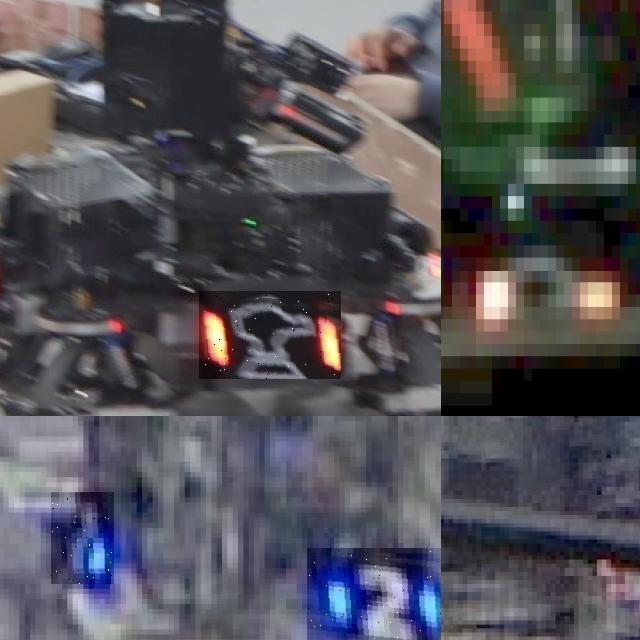B2: (307, 548, 441, 639), (51, 492, 116, 584)
Rs: (200, 291, 342, 379)
